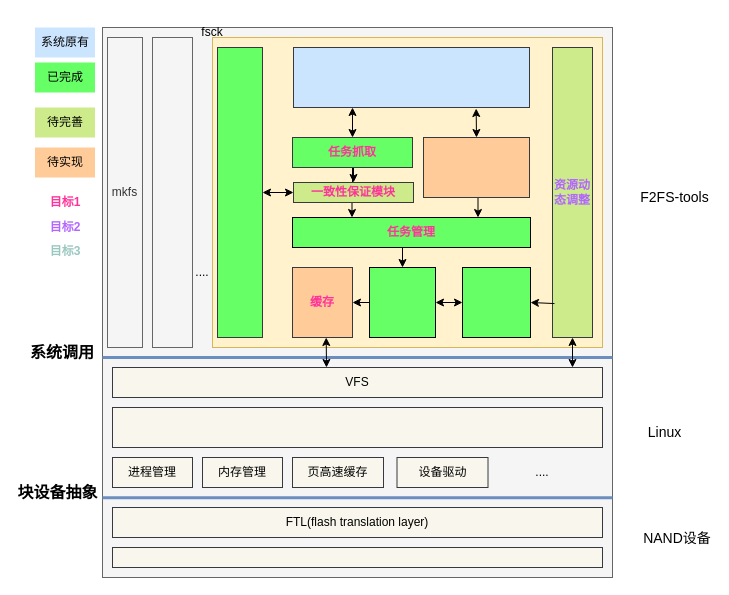
Image size: 729x595. Some labels were removed from this diagram. Each missing label, with the centre of its shape:
"dump" belongs at [172,192].
"F2FS文件系统" belongs at [357,427].
"NAND Flash" belongs at [357,557].
"共享变量访问控制" belongs at [239,192].
"原FSCK(检查和修复)" belongs at [411,77].
"工作线程池" belongs at [402,302].
"性能优化" belongs at [476,167].
"空闲线程池" belongs at [496,302].
